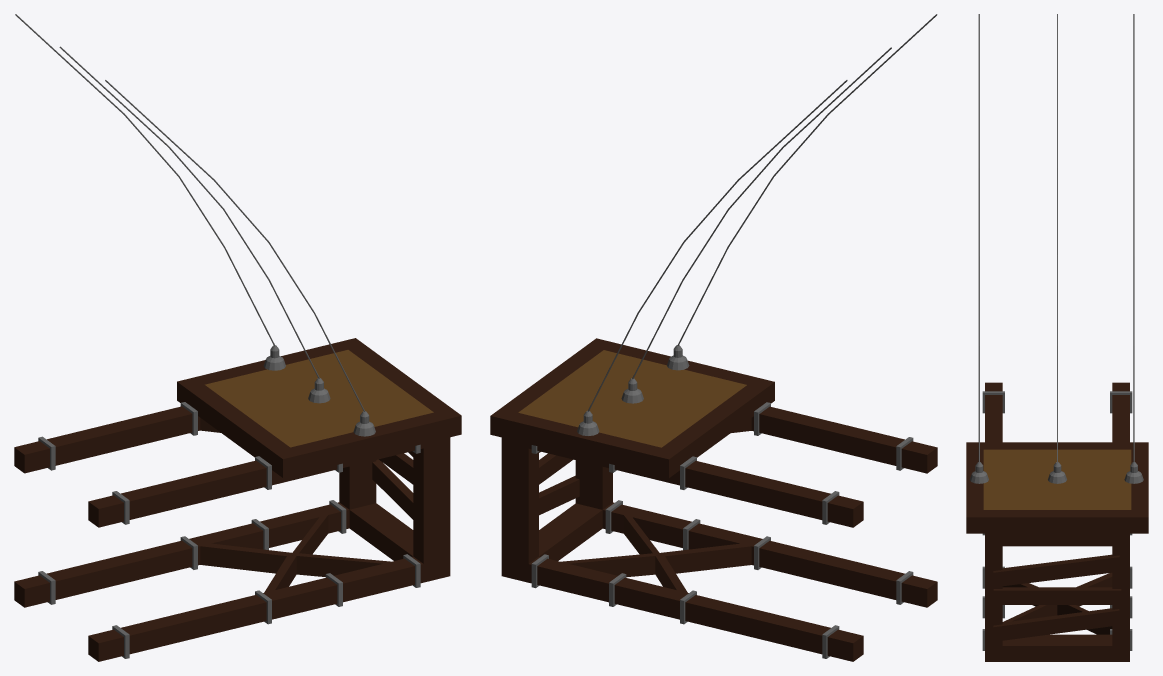
Rendered from Buildstand_Wall.fbx.
The picture shows the model from 3 angles, left to right: view 1: azimuth 30°, elevation 25°; view 2: azimuth 150°, elevation 25°; view 3: azimuth 270°, elevation 25°; orthographic projection. The views are drawn at different scales.
Visible parts, largest first — view 1: Floor_Holder, Floor, Rope_Holder, Rope_Holder.002, Rope_Holder.001; view 2: Floor_Holder, Floor, Rope_Holder, Rope_Holder.001, Rope_Holder.002; view 3: Floor_Holder, Floor, Rope_Holder.002, Rope_Holder.001, Rope_Holder.
Boxes of the visible parts, <box> form: Floor_Holder: <box>14,402,450,661</box>; Floor: <box>177,338,461,477</box>; Rope_Holder: <box>59,46,330,403</box>; Rope_Holder.002: <box>105,80,375,436</box>; Rope_Holder.001: <box>15,14,285,370</box>; Floor_Holder: <box>501,402,937,661</box>; Floor: <box>490,338,774,478</box>; Rope_Holder: <box>621,47,891,403</box>; Rope_Holder.001: <box>577,80,847,435</box>; Rope_Holder.002: <box>667,14,937,370</box>; Floor_Holder: <box>982,382,1132,661</box>; Floor: <box>966,442,1148,533</box>; Rope_Holder.002: <box>969,14,988,483</box>; Rope_Holder.001: <box>1124,14,1143,483</box>; Rope_Holder: <box>1048,14,1066,483</box>.
Bounding box in the file's own units: 5.55 × 8.73 × 2.86.
